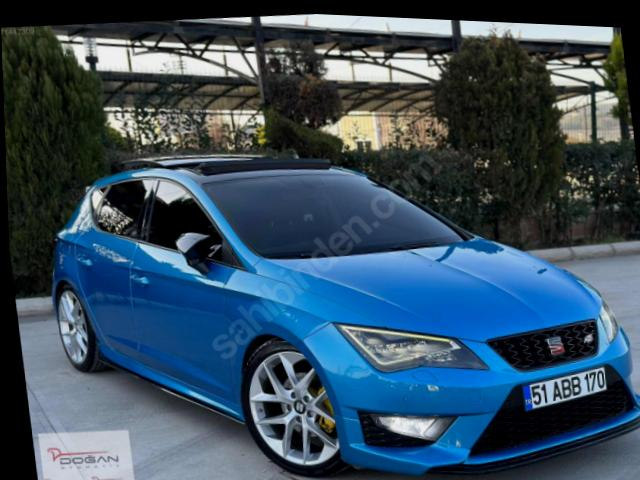plaka: (522, 367, 607, 409)
